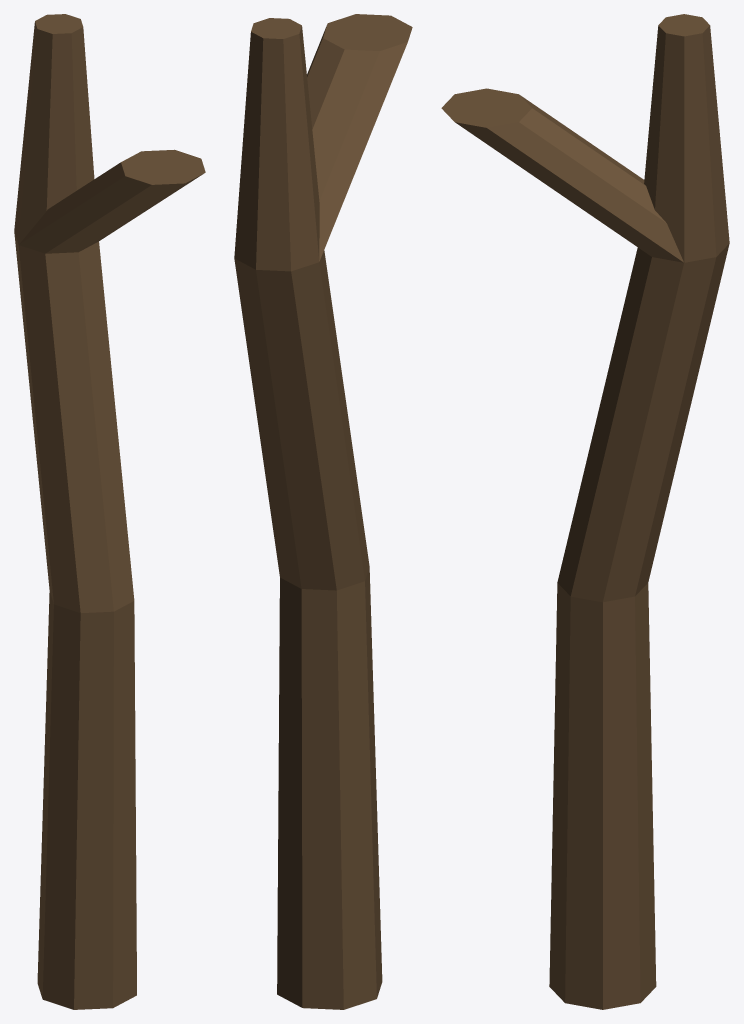
The model's file is stick.fbx.
3 renders of one model, left to right at view 1: azimuth 30°, elevation 25°; view 2: azimuth 150°, elevation 25°; view 3: azimuth 270°, elevation 25°, orthographic. The views are drawn at different scales.
Parts seen in each view (by area): view 1: stick; view 2: stick; view 3: stick.
Part boxes in pixels (<box>): stick: <box>14,14,205,1009</box>; stick: <box>234,14,412,1009</box>; stick: <box>441,14,729,1009</box>.
Size of the model in its own units: 88.54 by 770 by 208.
